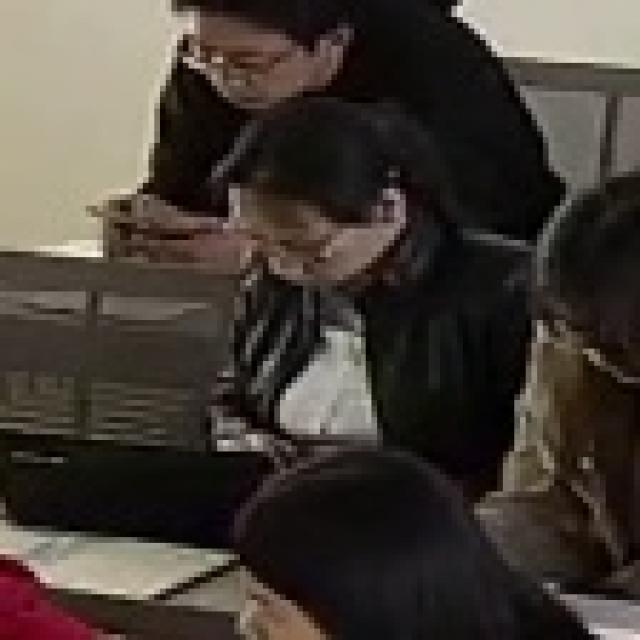phone: (205, 127, 544, 498), (90, 3, 566, 252)
